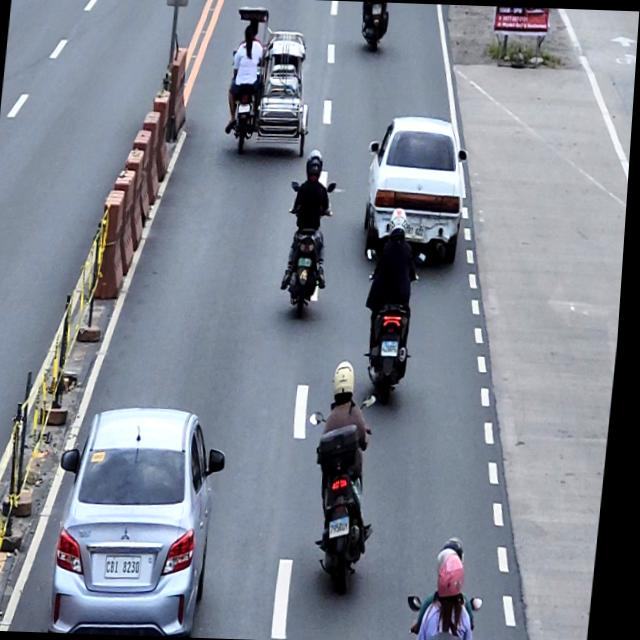Car: (52, 403, 236, 638), (360, 113, 474, 263)
License-Plate: (110, 552, 151, 580), (335, 514, 359, 540), (405, 224, 430, 240), (384, 340, 403, 358), (300, 256, 315, 268), (239, 102, 252, 113), (372, 5, 382, 15)
Motorcycle: (299, 407, 390, 595), (357, 248, 426, 404), (281, 180, 339, 318), (358, 1, 390, 52)
Tricycle: (224, 5, 321, 156)
